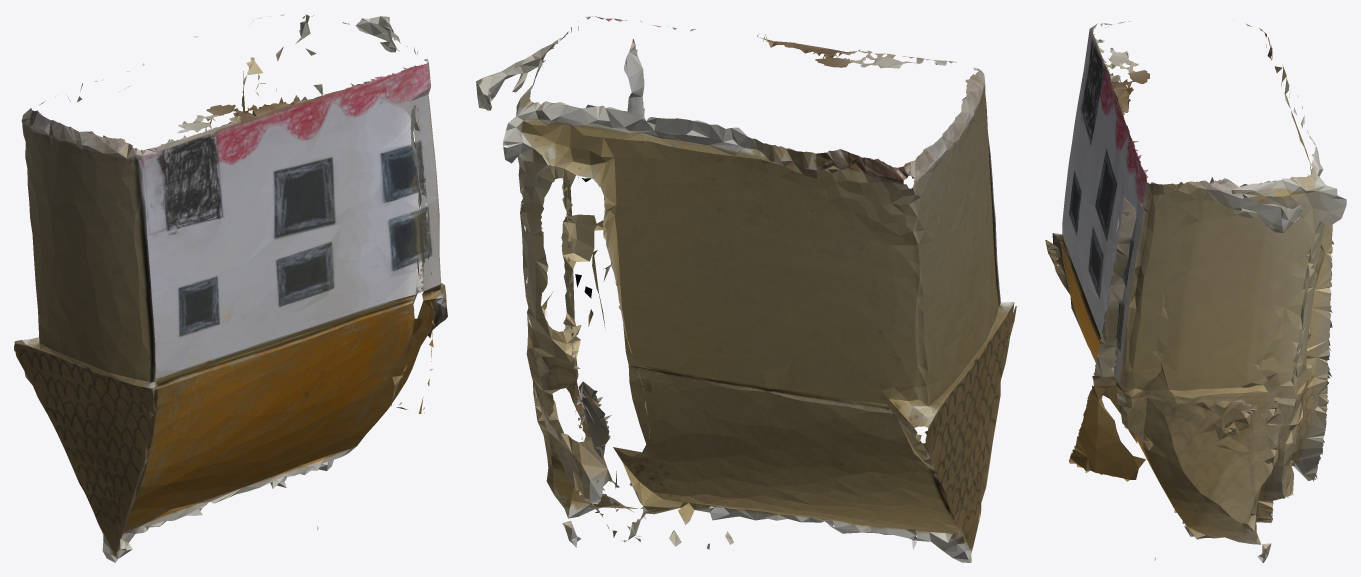
3 renders of one model, left to right at view 1: azimuth 30°, elevation 25°; view 2: azimuth 150°, elevation 25°; view 3: azimuth 270°, elevation 25°, orthographic. The views are drawn at different scales.
Bounding box in the file's own units: 4.99 × 5.62 × 3.48.
1 material, 1 textured.
